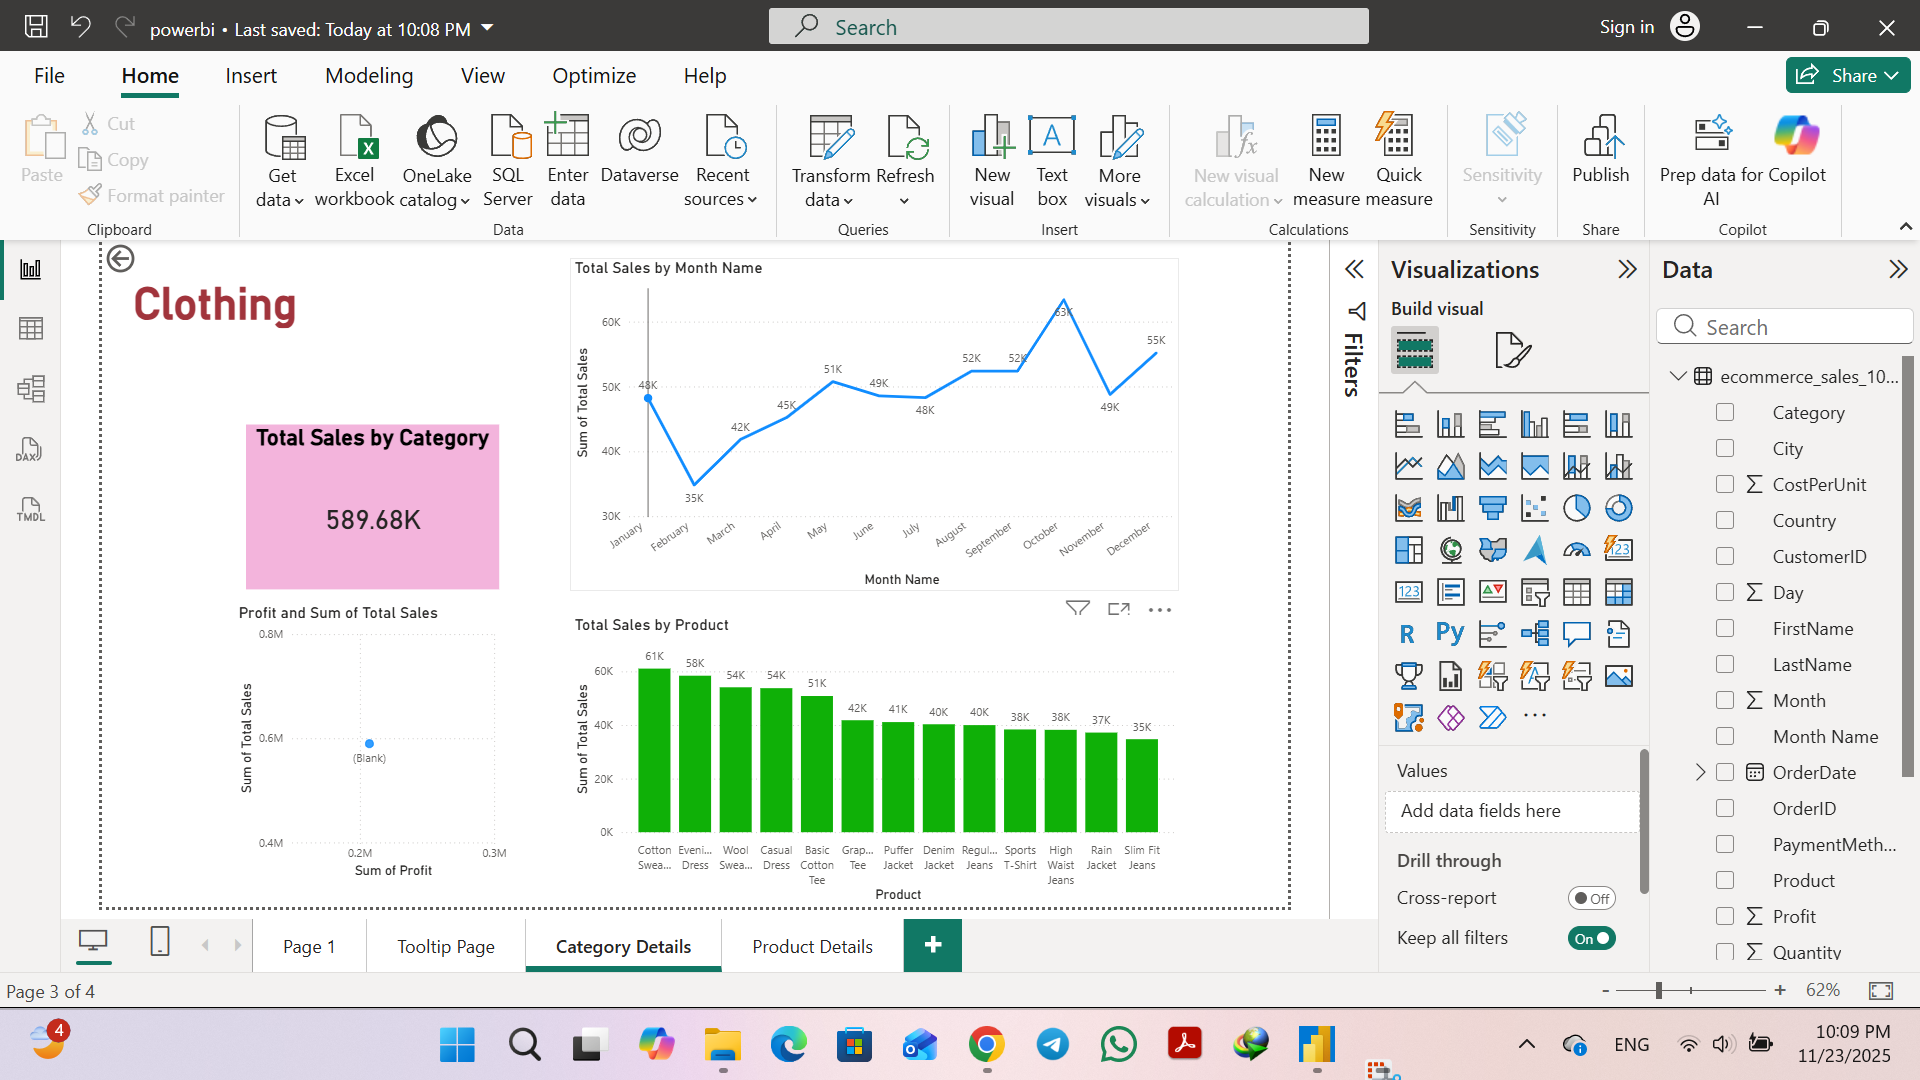

What the dashboard file says about the page in this screenshot:
{"tool":"powerbi","page":{"name":"Category Details","canvas":[1280,720],"ordinal":2},"visuals":[{"type":"actionButton","box":[0,0,100,40],"z":0},{"type":"kpi","title":"Total Sales by Category","fields":{"Indicator":["Sum(ecommerce_sales_10000rows.Total Sales)"],"TrendLine":["ecommerce_sales_10000rows.Category"]},"box":[155.4,199.2,273.6,178.1],"z":1000},{"type":"lineChart","title":"Total Sales by Month Name","fields":{"Category":["ecommerce_sales_10000rows.Month Name"],"Y":["Sum(ecommerce_sales_10000rows.Total Sales)"]},"box":[505.2,19.4,657.4,359.5],"z":2000},{"type":"scatterChart","title":"Profit and Sum of Total Sales","fields":{"X":["Sum(ecommerce_sales_10000rows.Profit)"],"Y":["Sum(ecommerce_sales_10000rows.Total Sales)"]},"box":[142.5,391.9,299.6,301.2],"z":3000},{"type":"clusteredColumnChart","title":"Total Sales by Product","fields":{"Y":["Sum(ecommerce_sales_10000rows.Total Sales)"],"Category":["ecommerce_sales_10000rows.Product"]},"box":[505.2,404.8,657.4,314.1],"z":4000},{"type":"textbox","box":[29.1,40.5,399.9,100.4],"z":5000}]}

Visuals, with their boxes on the page's 1280x720 design canvas (x1, y1, x2, y2). These are canvas units, not pixel positions in the 1920x1080 screenshot, which may show the page scaled, cropped or inside an application window:
actionButton: [left=0, top=0, right=100, bottom=40]
"Total Sales by Category" kpi: [left=155, top=199, right=429, bottom=377]
"Total Sales by Month Name" lineChart: [left=505, top=19, right=1163, bottom=379]
"Profit and Sum of Total Sales" scatterChart: [left=142, top=392, right=442, bottom=693]
"Total Sales by Product" clusteredColumnChart: [left=505, top=405, right=1163, bottom=719]
textbox: [left=29, top=40, right=429, bottom=141]
